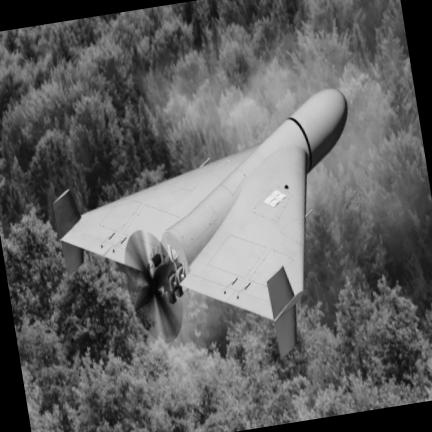Shahed: (54, 89, 348, 356)
